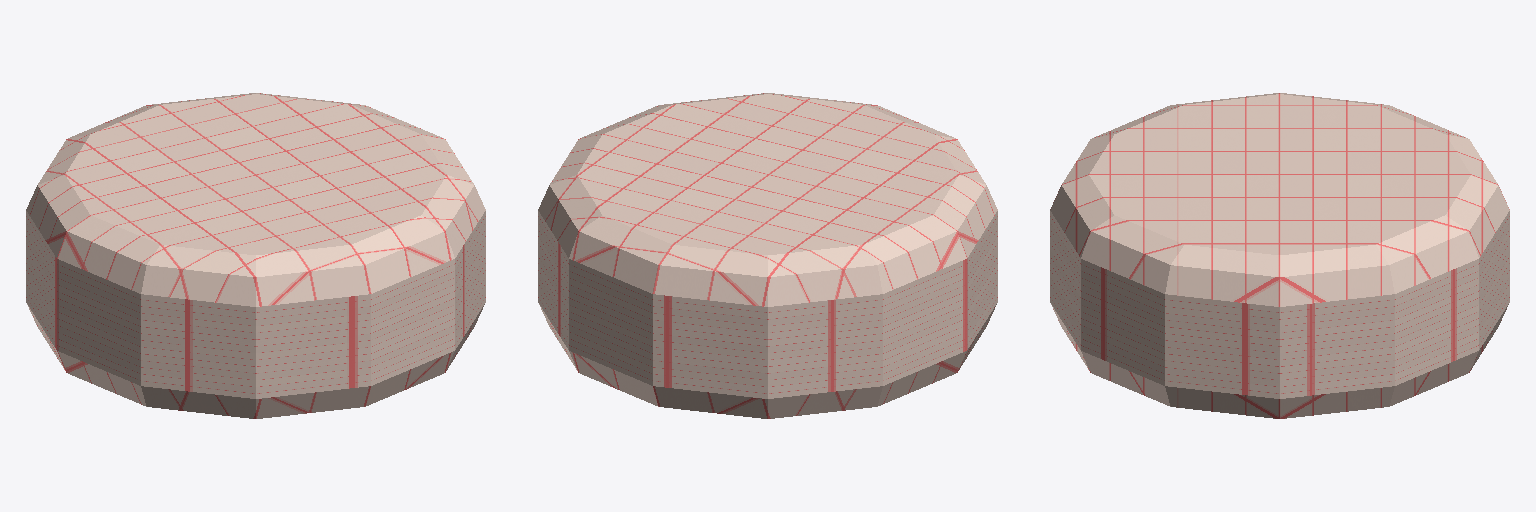
3 views of the same model, side by side, from view 1: azimuth 30°, elevation 25°; view 2: azimuth 150°, elevation 25°; view 3: azimuth 270°, elevation 25° (orthographic).
Parts seen in each view (by area): view 1: ChamferCyl003; view 2: ChamferCyl003; view 3: ChamferCyl003.
Part boxes in pixels (left/top/right/bottom): ChamferCyl003: left=26, top=93, right=485, bottom=418; ChamferCyl003: left=538, top=93, right=997, bottom=418; ChamferCyl003: left=1050, top=93, right=1509, bottom=418.
Bounding box in the file's own units: 11.68 × 4.55 × 11.68.
1 materials, 1 textured.